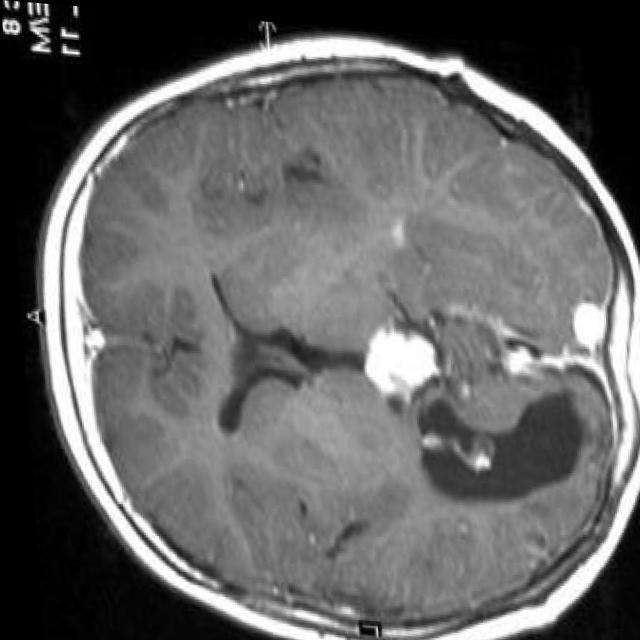Tumor: (412, 381, 576, 495)
